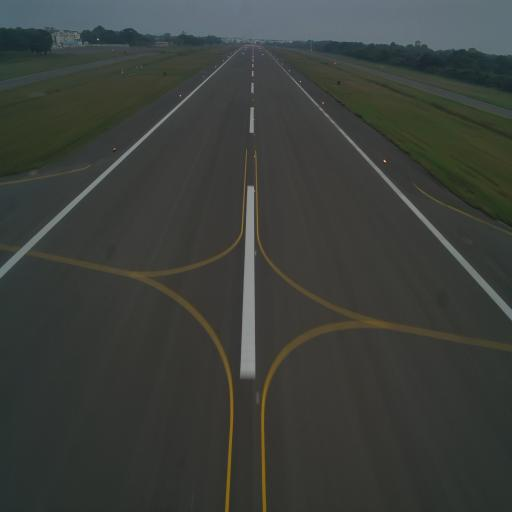on: (252, 391, 262, 408), (252, 247, 259, 261), (382, 156, 388, 167), (111, 146, 118, 154), (252, 153, 256, 161), (253, 187, 257, 194), (178, 92, 182, 98), (321, 100, 325, 105), (253, 132, 256, 138), (253, 117, 255, 122), (253, 106, 255, 110)
